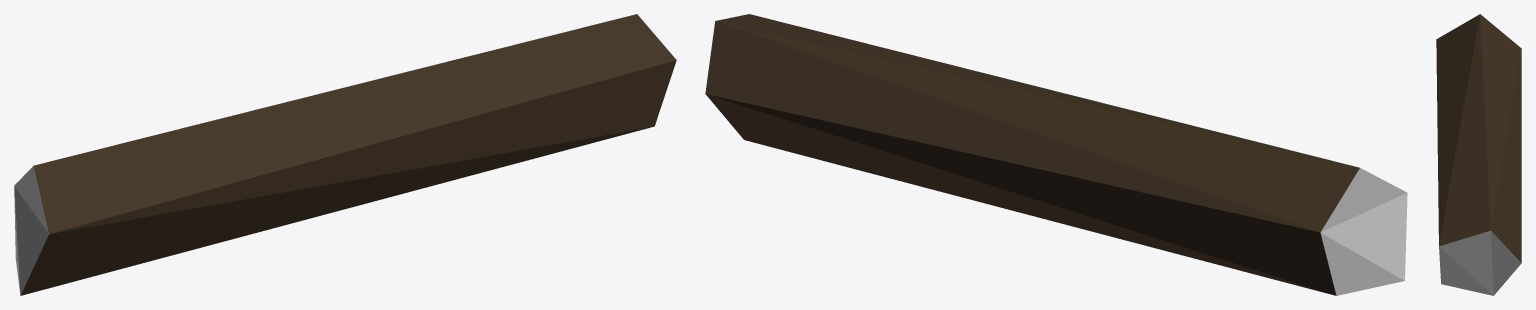
The model's file is NC_LOB_LOG2.OBJ.
The picture shows the model from 3 angles, left to right: view 1: azimuth 30°, elevation 25°; view 2: azimuth 150°, elevation 25°; view 3: azimuth 270°, elevation 25°; orthographic projection. The views are drawn at different scales.
Parts seen in each view (by area): view 1: NC_LOB_LOG2; view 2: NC_LOB_LOG2; view 3: NC_LOB_LOG2.
Boxes of the visible parts, bbox=[...] form: NC_LOB_LOG2: bbox=[14, 14, 676, 295]; NC_LOB_LOG2: bbox=[705, 14, 1407, 295]; NC_LOB_LOG2: bbox=[1436, 14, 1521, 295].
Size of the model in its own units: 1.77 by 0.2959 by 0.2822.
